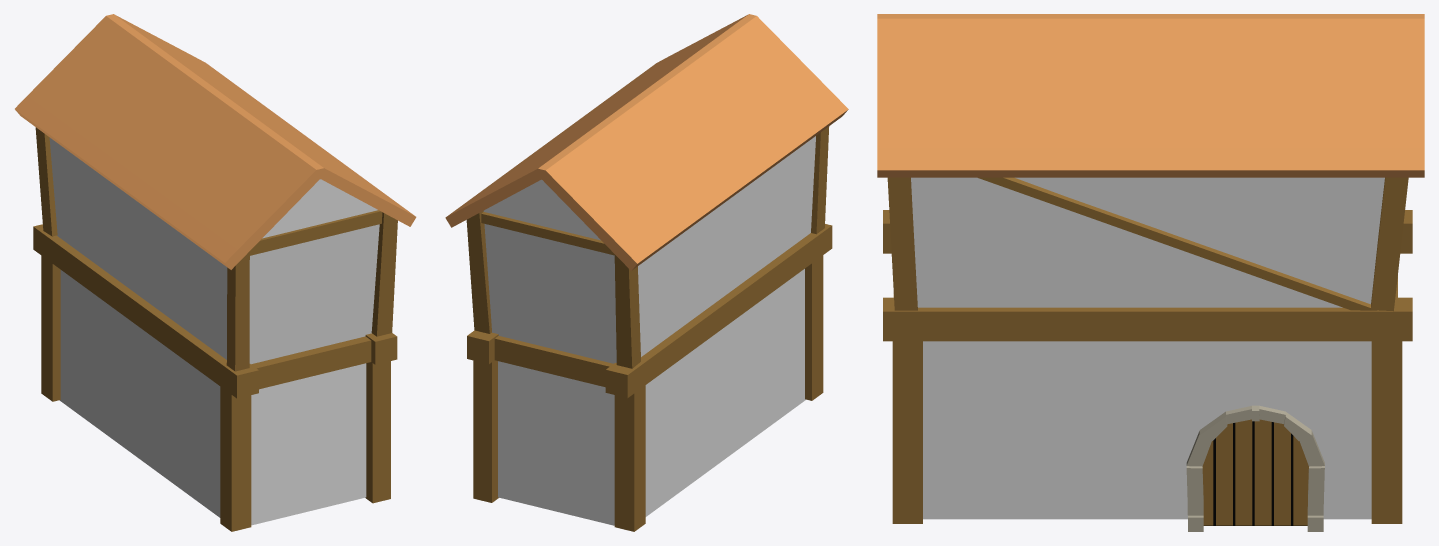
File: med_housevariant2.fbx
3 renders of one model, left to right at view 1: azimuth 30°, elevation 25°; view 2: azimuth 150°, elevation 25°; view 3: azimuth 270°, elevation 25°, orthographic. The views are drawn at different scales.
Visible parts, largest first — view 1: House, Roof, Beams; view 2: House, Roof, Beams; view 3: House, Roof, Beams, Doorpanels, Doorframe, Door.
Part boxes in pixels (bbox=[...]): House: bbox=[49, 137, 379, 525]; Roof: bbox=[15, 14, 416, 269]; Beams: bbox=[33, 127, 397, 531]; House: bbox=[483, 136, 815, 525]; Roof: bbox=[445, 14, 848, 270]; Beams: bbox=[466, 126, 832, 531]; House: bbox=[911, 177, 1384, 519]; Roof: bbox=[877, 14, 1424, 177]; Beams: bbox=[883, 177, 1412, 523]; Doorpanels: bbox=[1202, 419, 1308, 525]; Doorframe: bbox=[1186, 405, 1324, 531]; Door: bbox=[1204, 421, 1307, 525].
Size of the model in its own units: 503 by 264 by 471.
